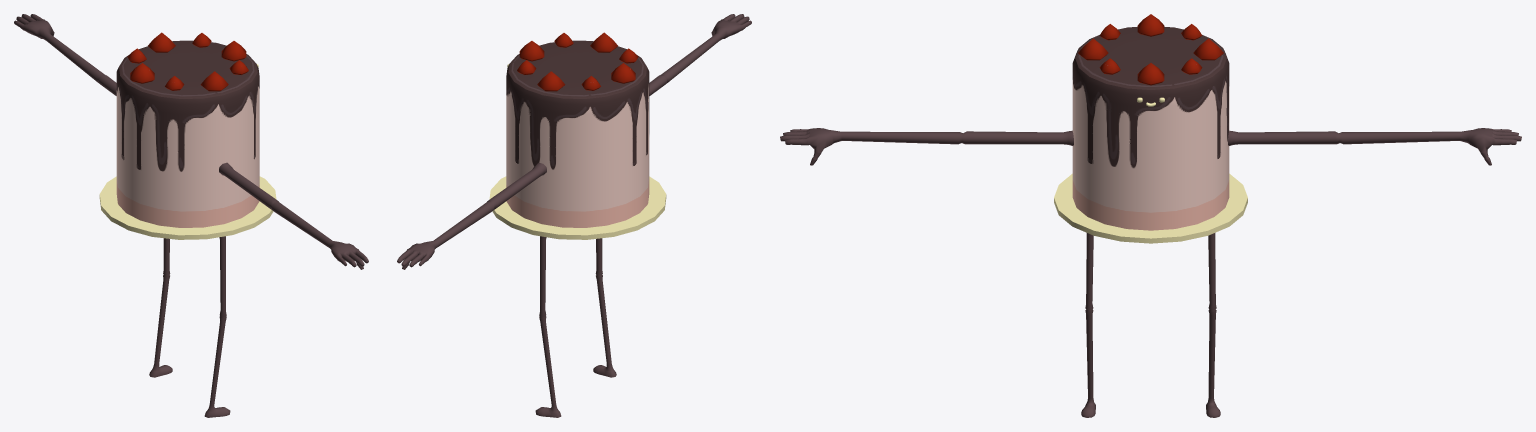
The model's file is Cake Character.glb.
3 views of the same model, side by side, from view 1: azimuth 30°, elevation 25°; view 2: azimuth 150°, elevation 25°; view 3: azimuth 270°, elevation 25° (orthographic). The views are drawn at different scales.
Visible parts, largest first — view 1: _100Avatars_144_RealCake; view 2: _100Avatars_144_RealCake; view 3: _100Avatars_144_RealCake.
Boxes of the visible parts, box(x1,y1,x2,y2) form: _100Avatars_144_RealCake: box(14, 14, 368, 417); _100Avatars_144_RealCake: box(397, 14, 751, 417); _100Avatars_144_RealCake: box(780, 14, 1521, 417).
Bounding box in the file's own units: 1.43 × 3.04 × 5.48.
Materials: 1 (1 with a texture image).
